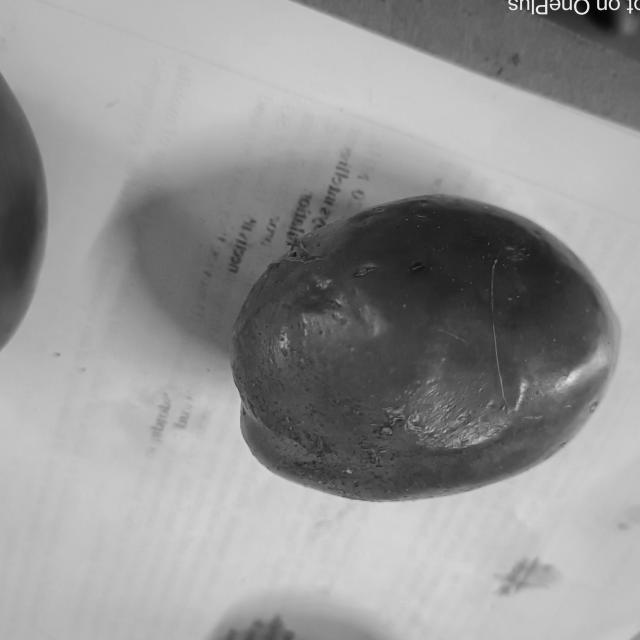Botrytis: (356, 446, 392, 471), (378, 409, 404, 437), (352, 263, 378, 283), (407, 260, 427, 276)
